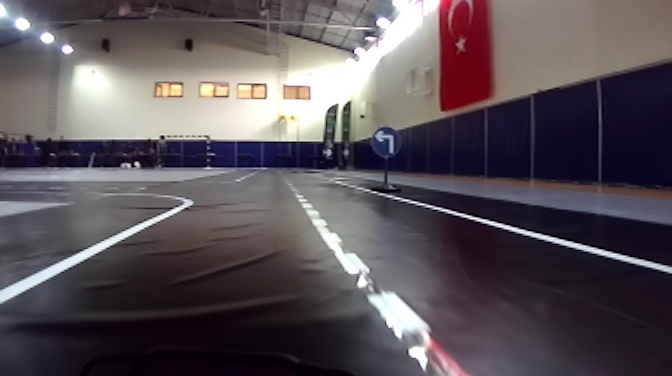sola_donus: (369, 124, 403, 158)
